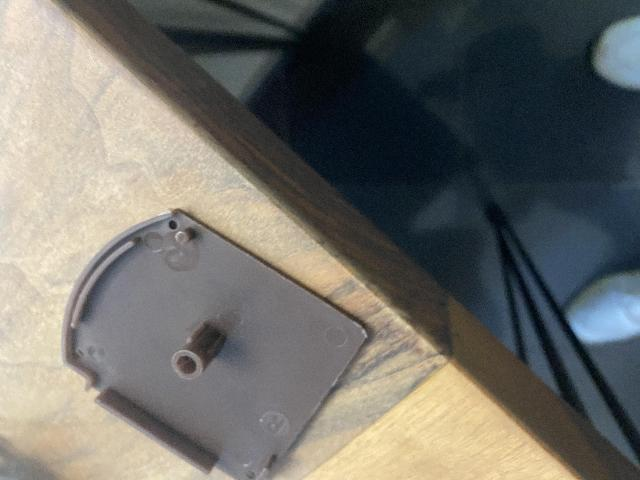Plastik: (46, 217, 373, 476)
